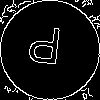P: (25, 25, 63, 74)
